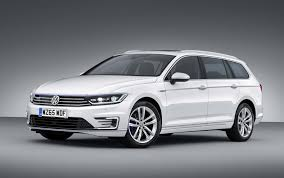car: (18, 37, 270, 159)
